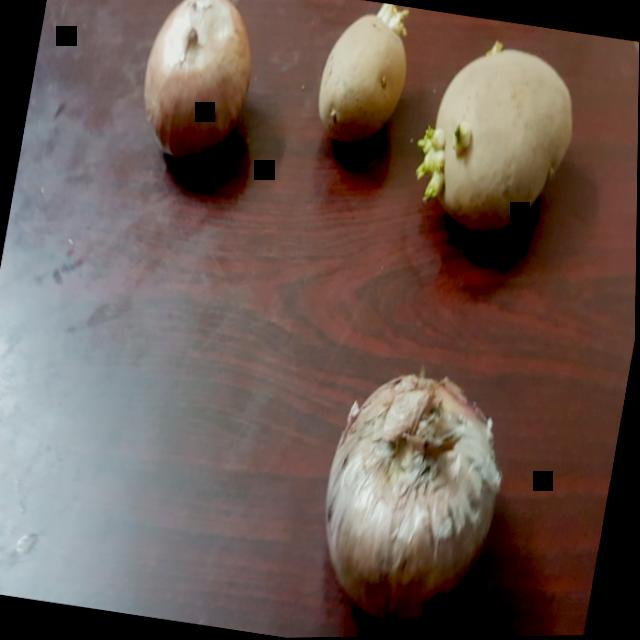onion: (287, 352, 525, 638), (125, 0, 272, 184)
potato: (397, 26, 591, 249), (304, 0, 428, 153)
